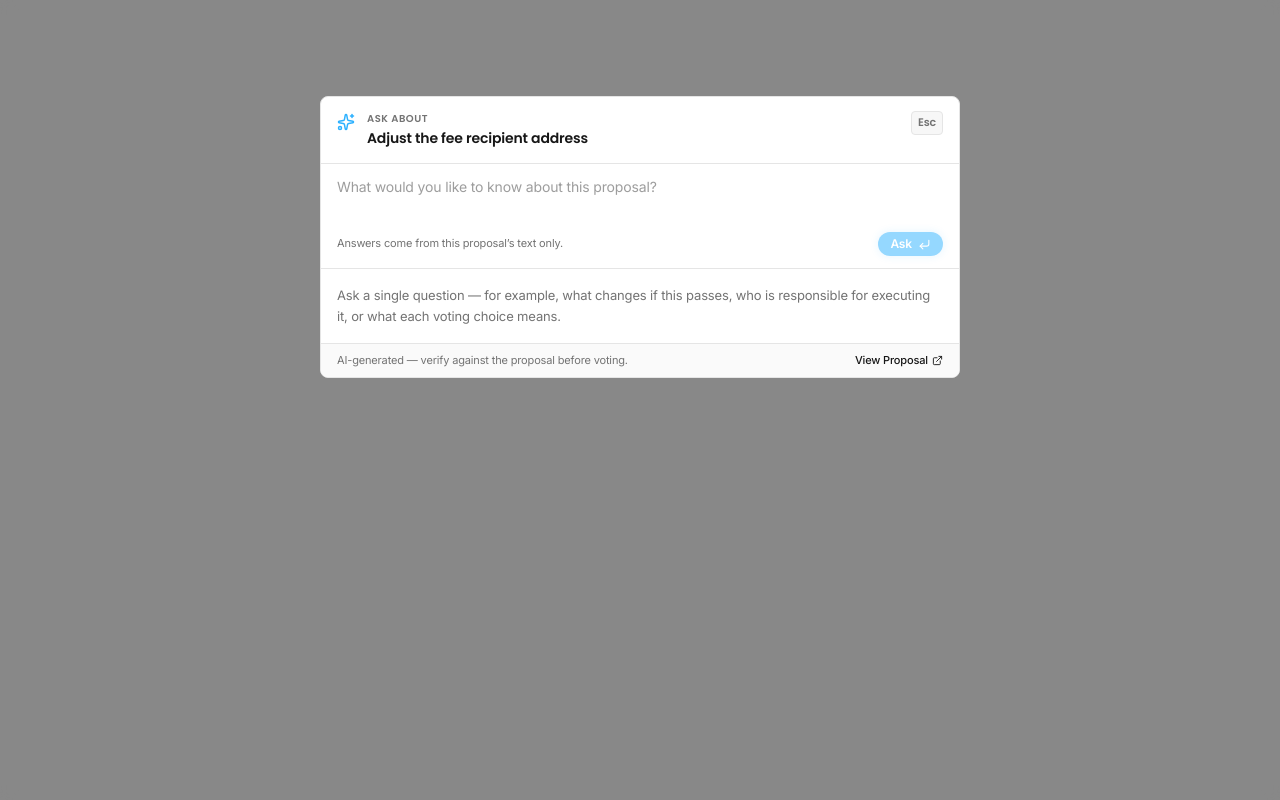
Scenario: AskProposalDialog › surfaces the API error message
Type "Who executes this?" into the text box named "Your question" at (640, 199), box 337,176 -> 943,221
Then press Enter
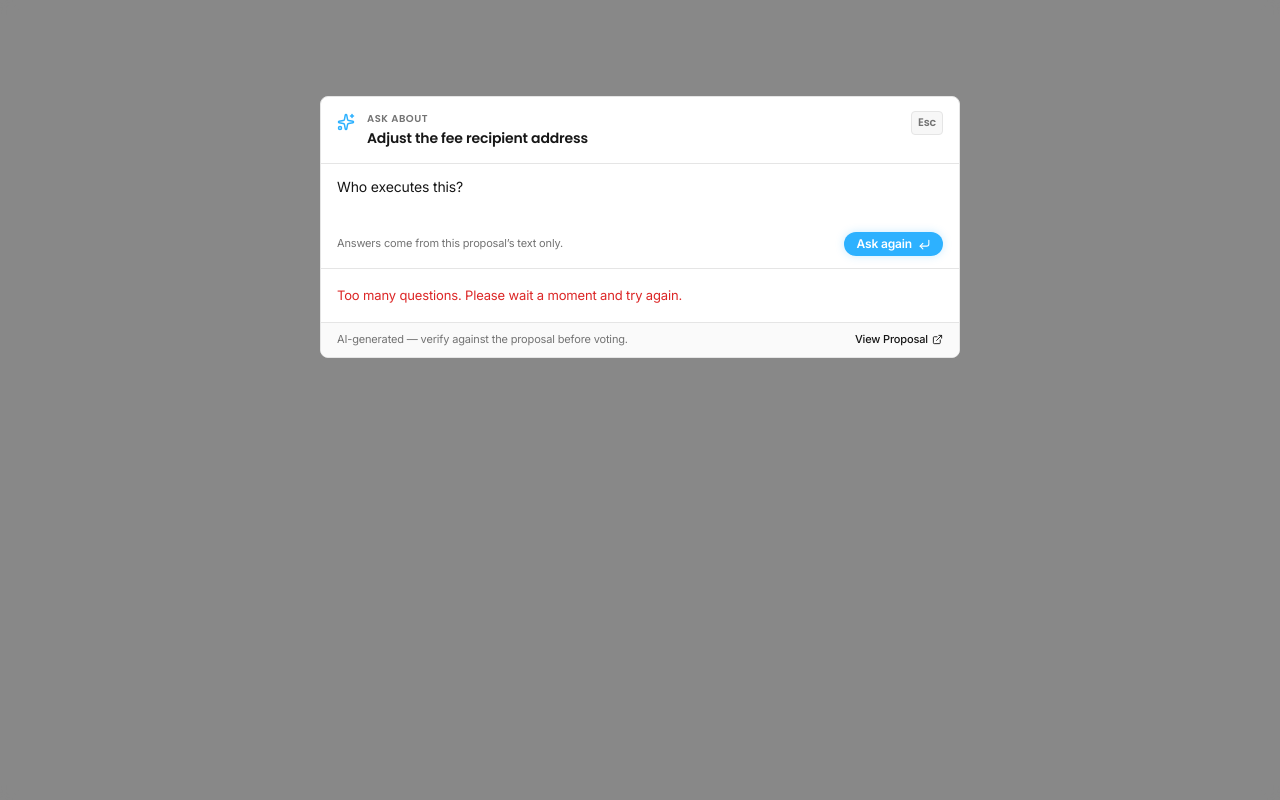
Expected: the message shows "Too many questions", 337,287 -> 682,303
